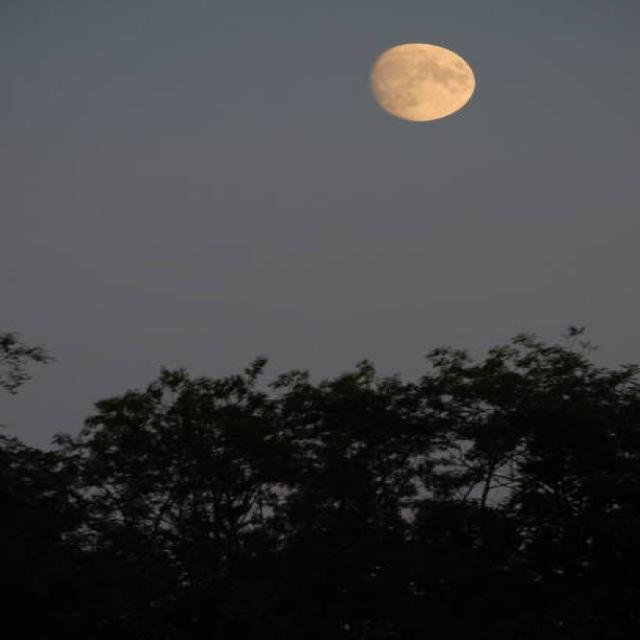moon: (330, 39, 476, 124)
